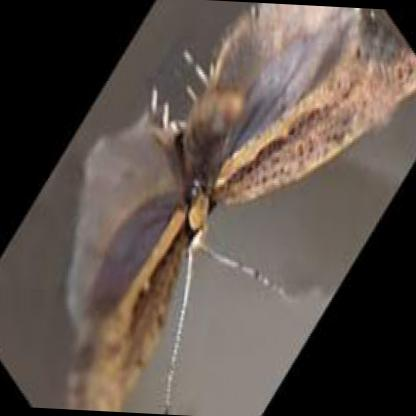plutella: (66, 4, 416, 412)
